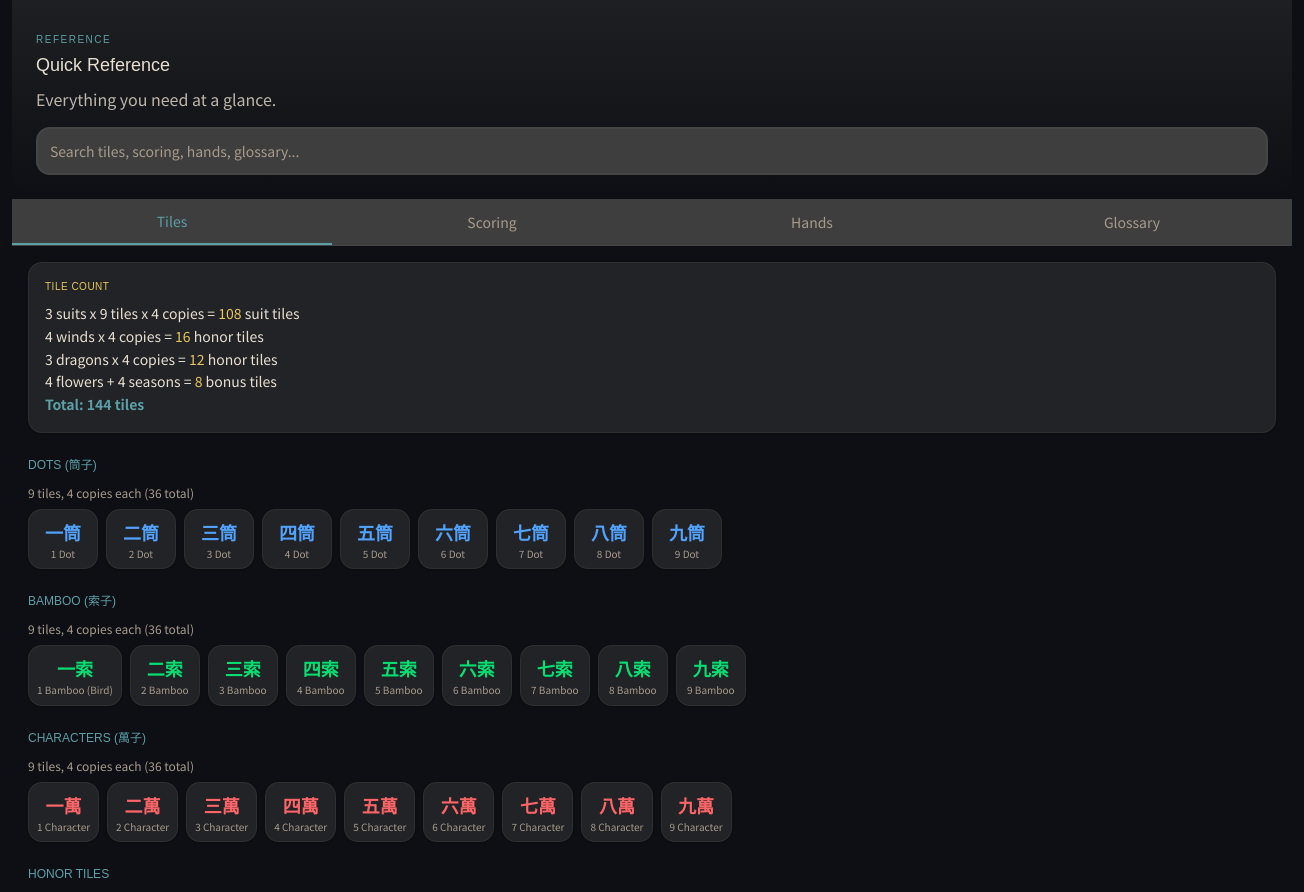
Test: ReferencePage › clicking "Glossary" tab shows term definitions
This screenshot has width=1304, height=892.
Click the tab "Glossary".
click(1132, 222)  # box x1=972 y1=199 x2=1292 y2=245
(page scrolled)
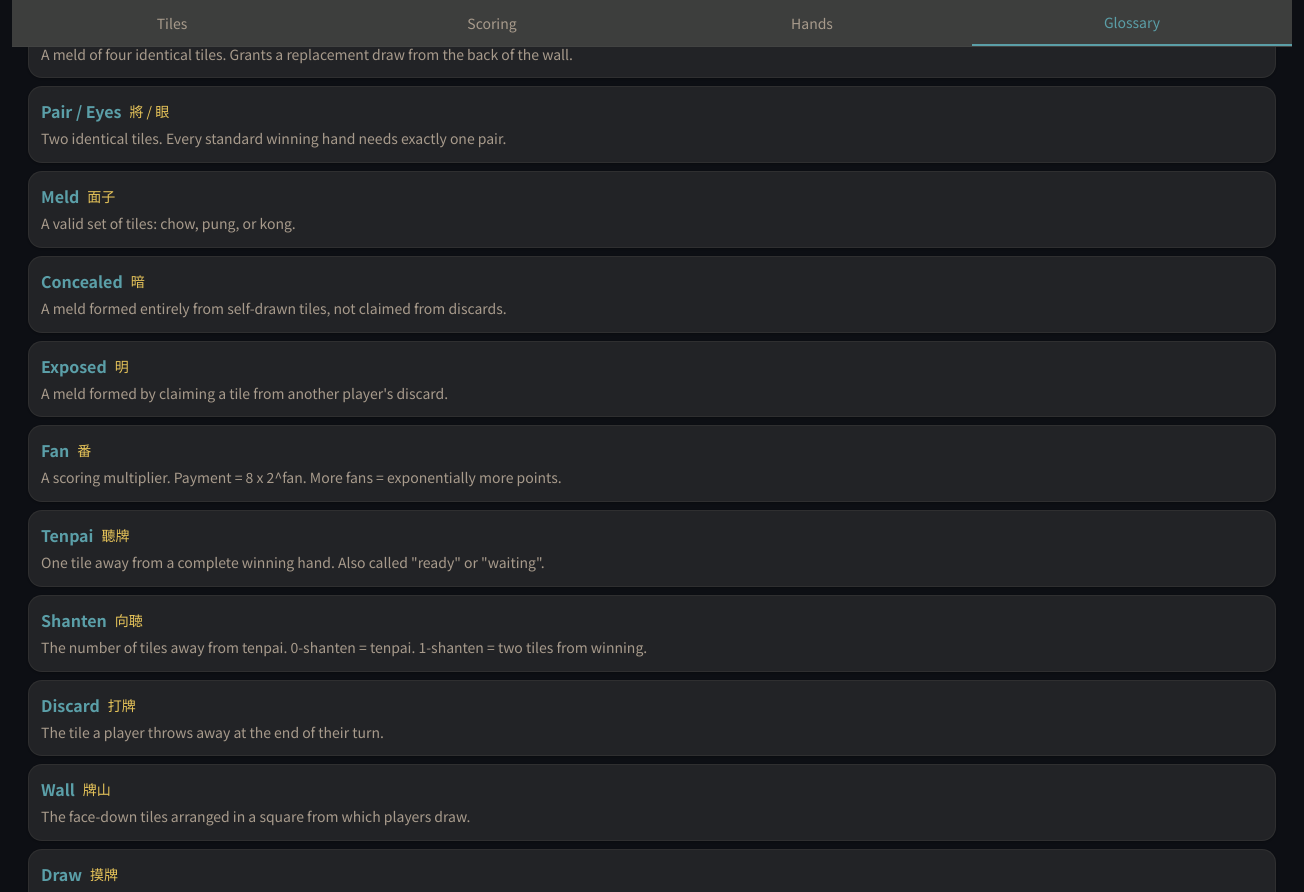
Expected: the text "Fan" is shown, x1=41 y1=438 x2=69 y2=462
